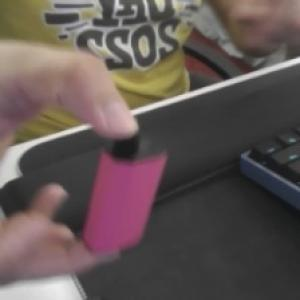Blume-E-Ciggirate: (81, 121, 170, 255)
